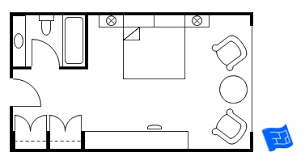door: (29, 37, 61, 75), (48, 113, 83, 132), (13, 114, 48, 132)
